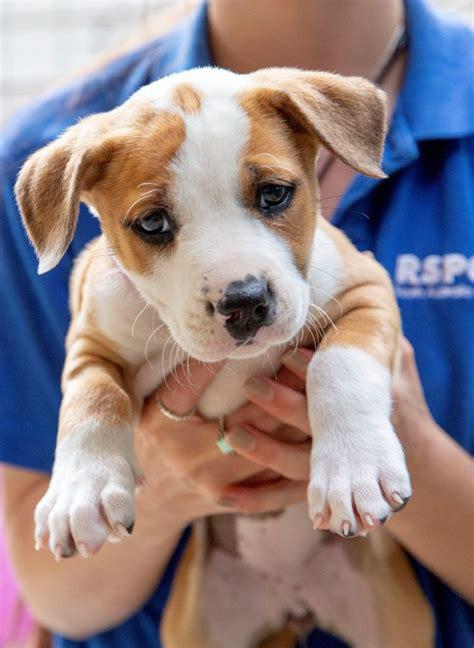dog: (14, 67, 430, 648)
